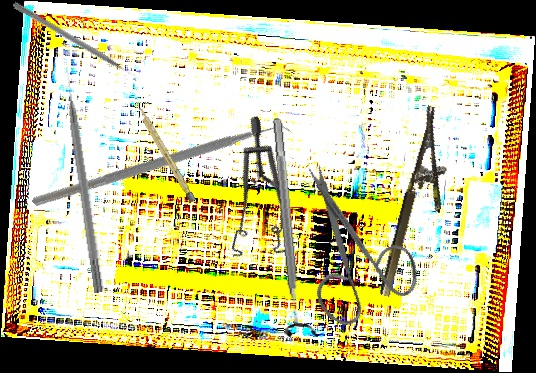Chopper: (31, 32, 300, 308)
Fixation Ring: (261, 116, 317, 339)
Iris Scissors: (250, 159, 445, 347)
Needle Holder: (377, 105, 466, 304)
Pusher: (11, 0, 141, 84), (61, 65, 107, 294)
Scalpel Handle: (135, 105, 197, 204)
Speculum: (178, 114, 323, 277)
